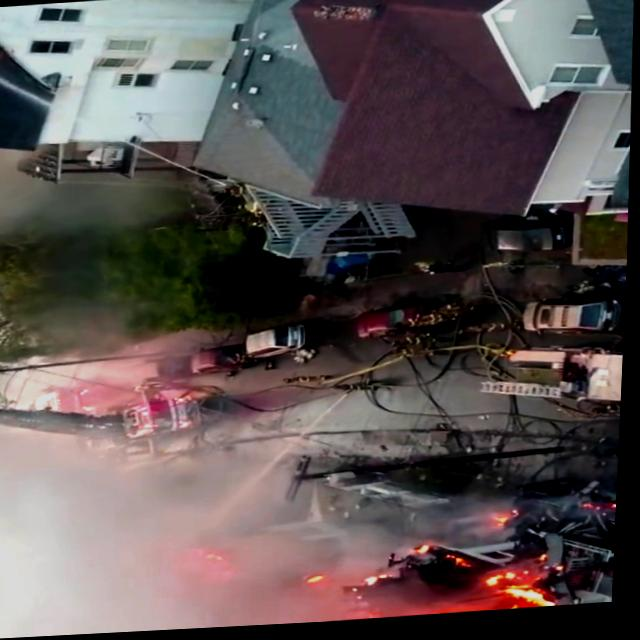fire: (424, 593, 558, 619)
